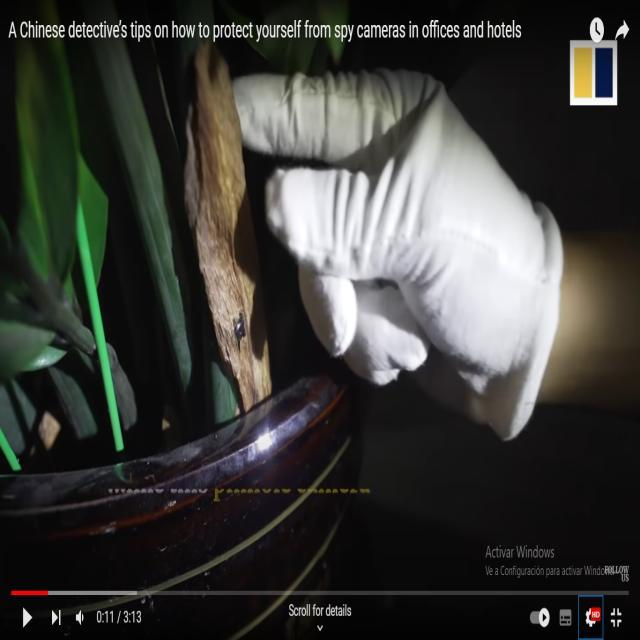hidden camera: (234, 312, 247, 342)
